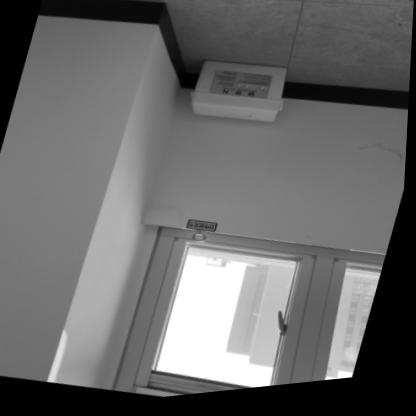DDL: (183, 51, 296, 139)
